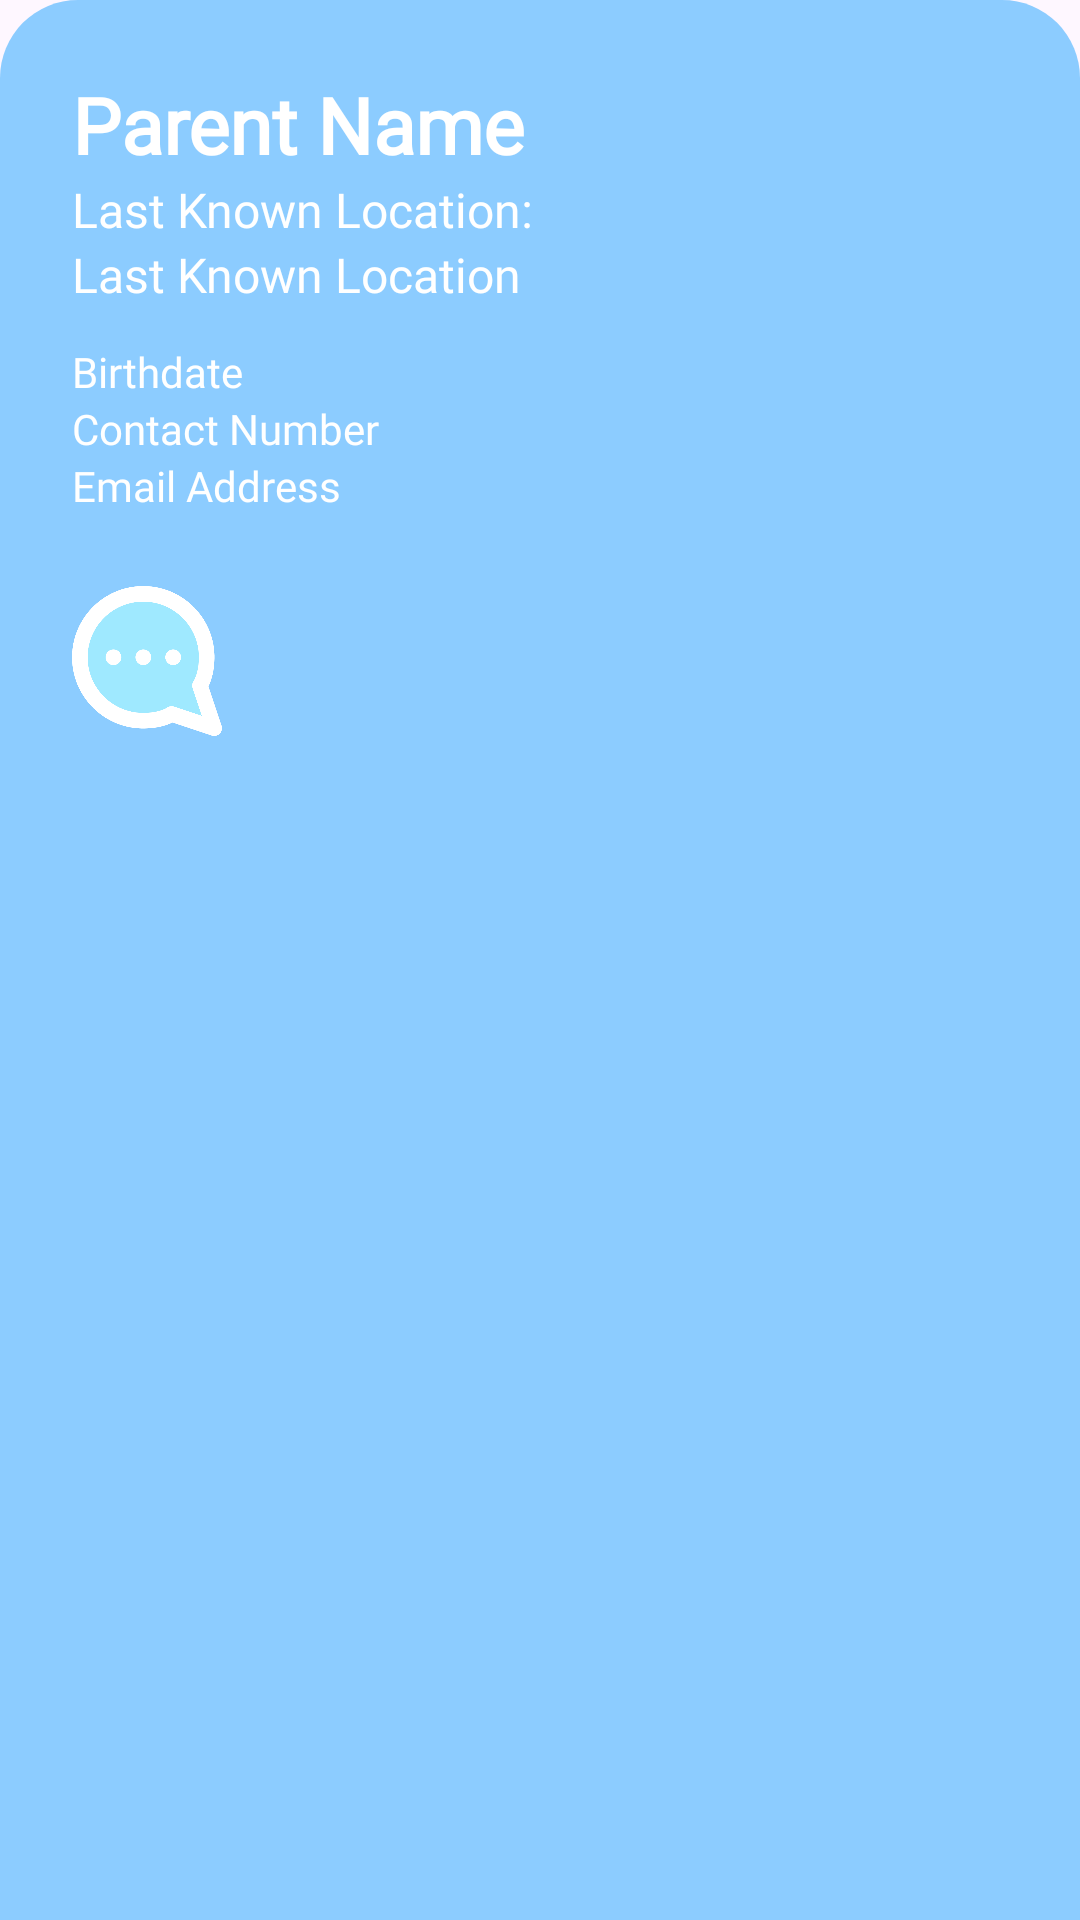

Icon bounding boxes for this 1080px x 1920px phone screenshot, format (x1, y1, x2, y2):
message: (72, 586, 222, 736)
